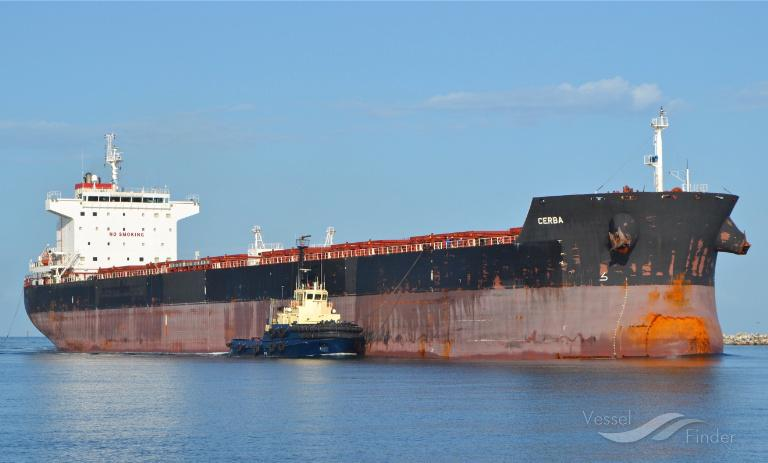OCR: (536, 209, 564, 231)
